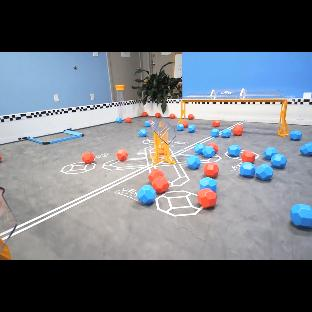Autolimit: (0, 164, 151, 241), (173, 136, 214, 156), (226, 122, 243, 130), (219, 131, 222, 135)
Goal: (178, 88, 290, 137)
Med_goal: (148, 118, 176, 164)
Parking - B: (19, 128, 84, 145)
V5_BLUE: (290, 204, 312, 228), (290, 203, 311, 227), (263, 147, 286, 166), (137, 185, 155, 206), (200, 177, 216, 192), (259, 164, 273, 179), (211, 128, 231, 138), (186, 156, 199, 169), (204, 143, 216, 155), (240, 165, 252, 177), (227, 145, 240, 156), (300, 143, 311, 155), (291, 130, 301, 139), (139, 129, 147, 137), (188, 125, 195, 133), (144, 121, 150, 127), (176, 124, 182, 130)
V5_RED: (148, 169, 168, 193), (197, 187, 216, 208), (81, 152, 94, 163), (117, 151, 126, 161), (234, 128, 242, 135), (213, 120, 220, 127), (125, 117, 131, 123), (188, 114, 194, 120), (169, 114, 175, 119), (155, 113, 161, 118), (142, 112, 148, 117)
